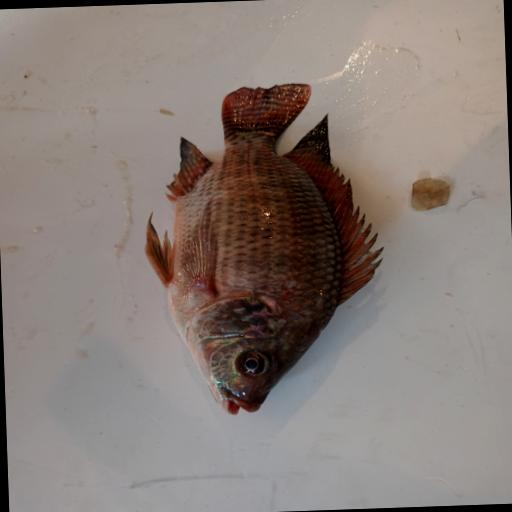Tilapia: (139, 80, 390, 418)
